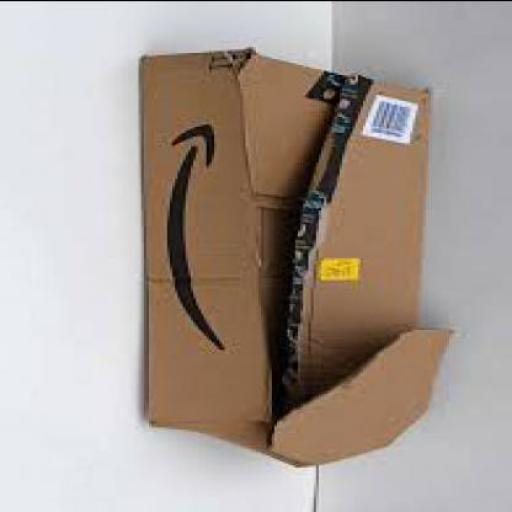cardboard: (144, 52, 457, 470)
